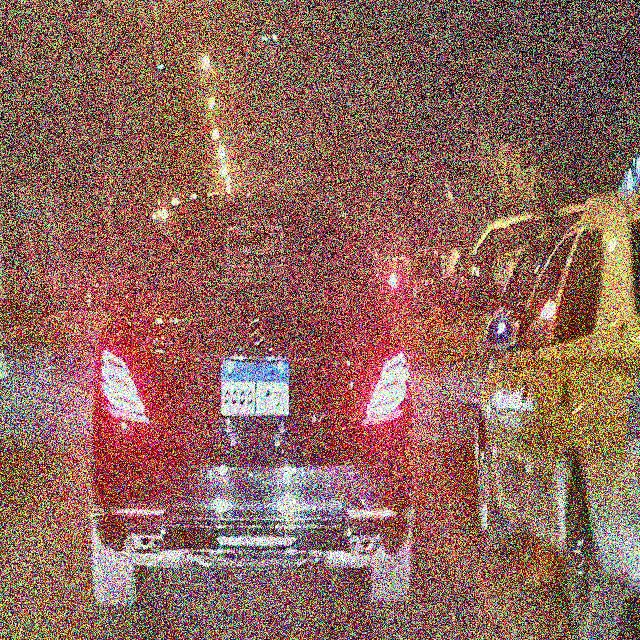License Plate: (218, 355, 292, 422)
